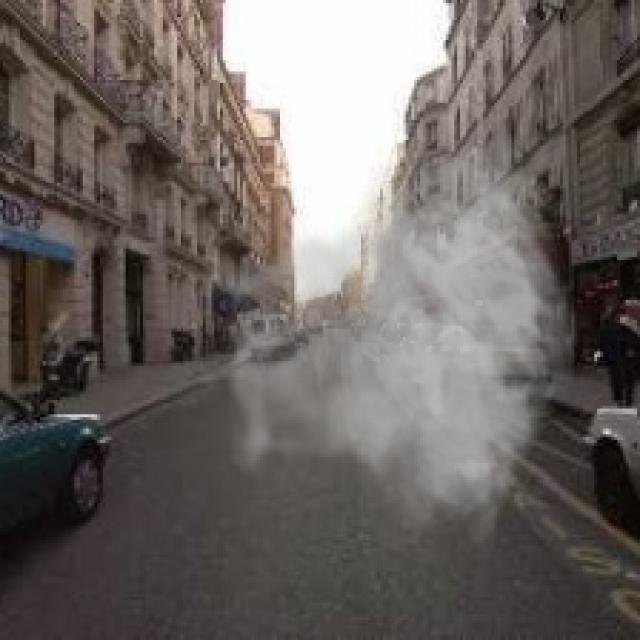Smoke: (192, 134, 577, 552)
